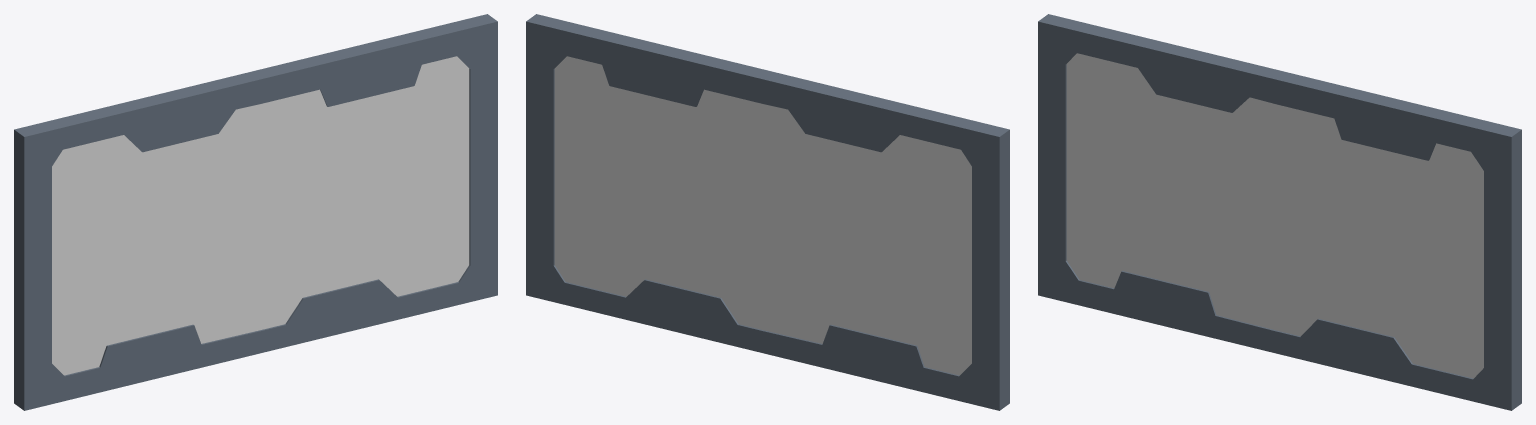
The model's file is mur_base.fbx.
The picture shows the model from 3 angles, left to right: view 1: azimuth 30°, elevation 25°; view 2: azimuth 150°, elevation 25°; view 3: azimuth 330°, elevation 25°; orthographic projection.
Parts seen in each view (by area): view 1: mur_base; view 2: mur_base; view 3: mur_base.
Part boxes in pixels (x1,y1,x2,y2): mur_base: (14,14,497,410); mur_base: (526,14,1009,410); mur_base: (1038,14,1521,410).
Size of the model in its own units: 0.5608 by 0.31 by 0.0211.
